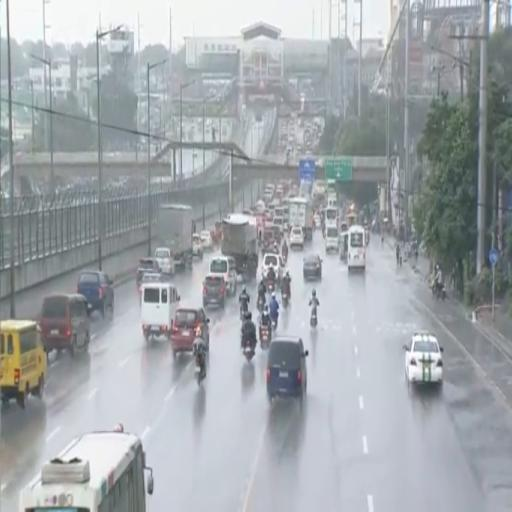bus: (20, 425, 154, 511), (347, 226, 365, 271), (325, 206, 338, 226), (347, 214, 357, 227)
car: (40, 294, 90, 356), (267, 336, 308, 402), (404, 331, 443, 385), (171, 308, 209, 356), (77, 270, 114, 316), (209, 256, 236, 296), (203, 275, 226, 308), (140, 272, 172, 293), (137, 258, 160, 287), (262, 253, 284, 282), (155, 248, 174, 275), (303, 254, 322, 279), (289, 228, 303, 249), (192, 234, 203, 258), (200, 231, 212, 250), (314, 214, 320, 228)
motorcycle: (195, 354, 205, 385), (243, 338, 254, 361), (432, 283, 446, 300), (261, 326, 270, 349), (240, 301, 248, 319), (310, 308, 317, 328), (257, 295, 265, 312), (271, 315, 278, 331), (267, 280, 275, 293), (282, 293, 288, 309), (282, 251, 287, 264)
truck: (221, 214, 258, 280), (156, 204, 193, 269), (289, 198, 312, 241)
